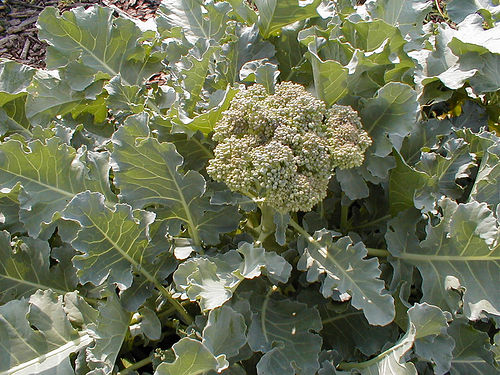broccoli: (205, 78, 370, 234)
